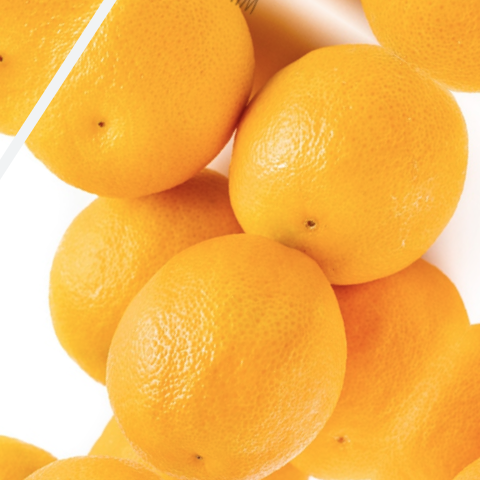orange: (154, 0, 480, 338), (50, 180, 405, 480), (0, 0, 307, 281)
